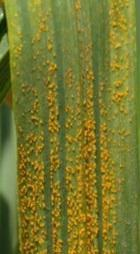Wheat: (22, 70, 127, 235)
